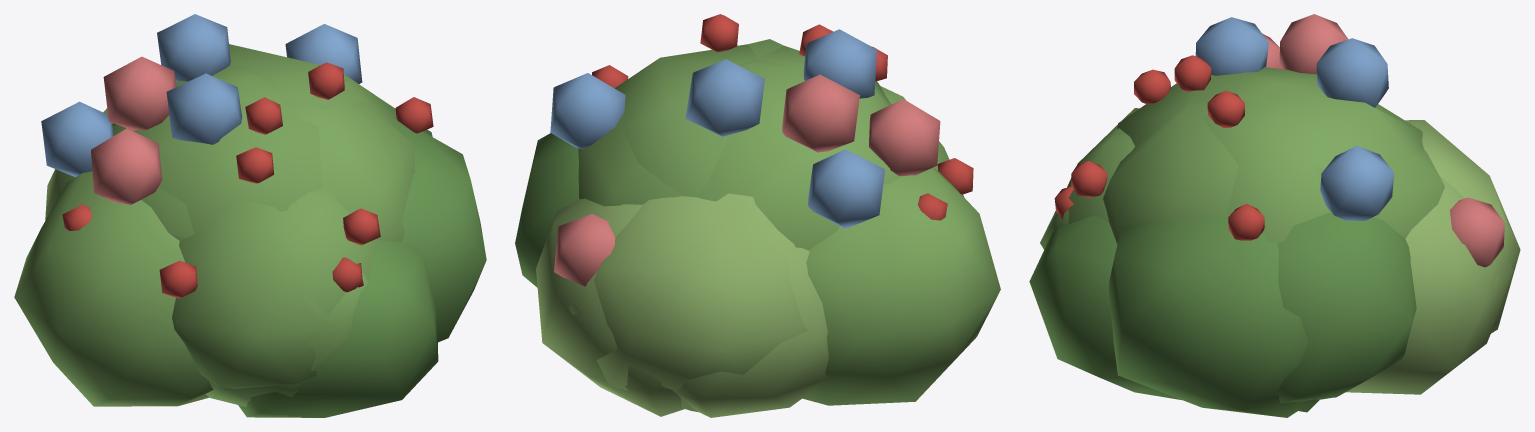
The model's file is bush.glb.
3 views of the same model, side by side, from view 1: azimuth 30°, elevation 25°; view 2: azimuth 150°, elevation 25°; view 3: azimuth 270°, elevation 25° (orthographic). The views are drawn at different scales.
Visible parts, largest first — view 1: bush.v2.canopy, bush.v1.canopy, bush.v0.canopy; view 2: bush.v2.canopy, bush.v1.canopy, bush.v0.canopy; view 3: bush.v2.canopy, bush.v0.canopy, bush.v1.canopy.
Part boxes in pixels (x1,y1,x2,y2): bush.v2.canopy: (41,14,432,388); bush.v1.canopy: (14,62,438,417); bush.v0.canopy: (69,44,486,416); bush.v2.canopy: (515,29,963,412); bush.v1.canopy: (536,14,1000,416); bush.v0.canopy: (614,44,892,417); bush.v2.canopy: (1053,14,1520,402); bush.v0.canopy: (1040,73,1423,417); bush.v1.canopy: (1029,55,1512,412).
Bounding box in the file's own units: 0.8062 × 0.6251 × 0.8097.
